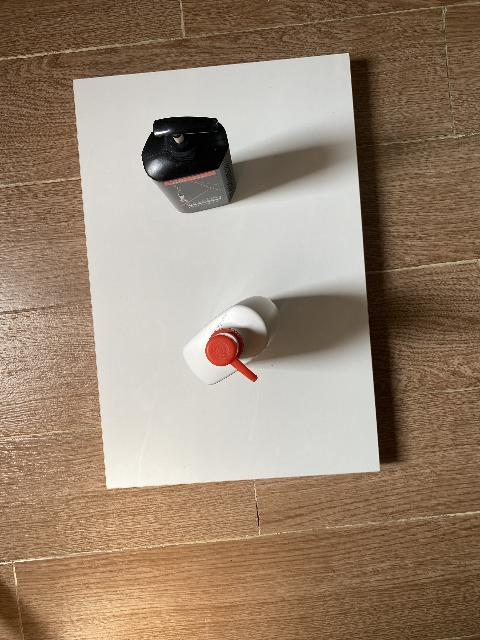X-men: (141, 116, 236, 214)
life-buoy: (183, 296, 280, 385)
